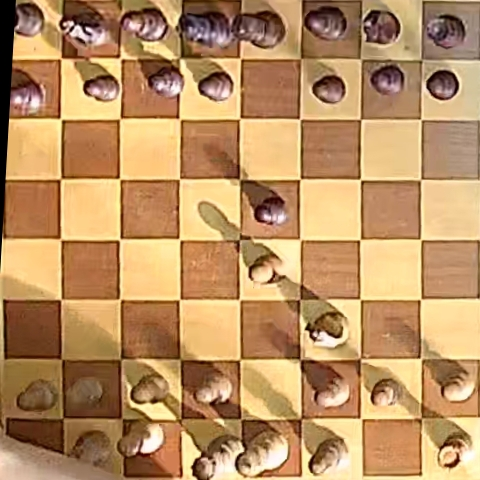black-bishop: (122, 8, 169, 42), (304, 6, 347, 40)
black-king: (233, 12, 285, 48)
black-knight: (60, 12, 108, 48), (362, 10, 400, 45)
black-pawn: (10, 80, 46, 112), (149, 67, 184, 98), (199, 71, 233, 101), (370, 65, 404, 95), (426, 70, 459, 100), (312, 75, 346, 103), (84, 75, 119, 102), (255, 197, 288, 225)
black-queen: (180, 12, 234, 48)
black-rook: (426, 14, 465, 48), (15, 3, 44, 36)
white-bishop: (119, 423, 163, 457), (310, 437, 348, 476)
white-king: (238, 429, 287, 476)
white-knight: (70, 431, 110, 466), (308, 312, 349, 346)
white-pawn: (17, 379, 58, 412), (195, 371, 232, 404), (66, 377, 104, 409), (312, 376, 349, 408), (131, 373, 169, 404), (439, 369, 474, 402), (249, 253, 282, 283), (371, 379, 401, 407)
white-queen: (192, 434, 245, 480)
white-rook: (438, 434, 474, 470)
